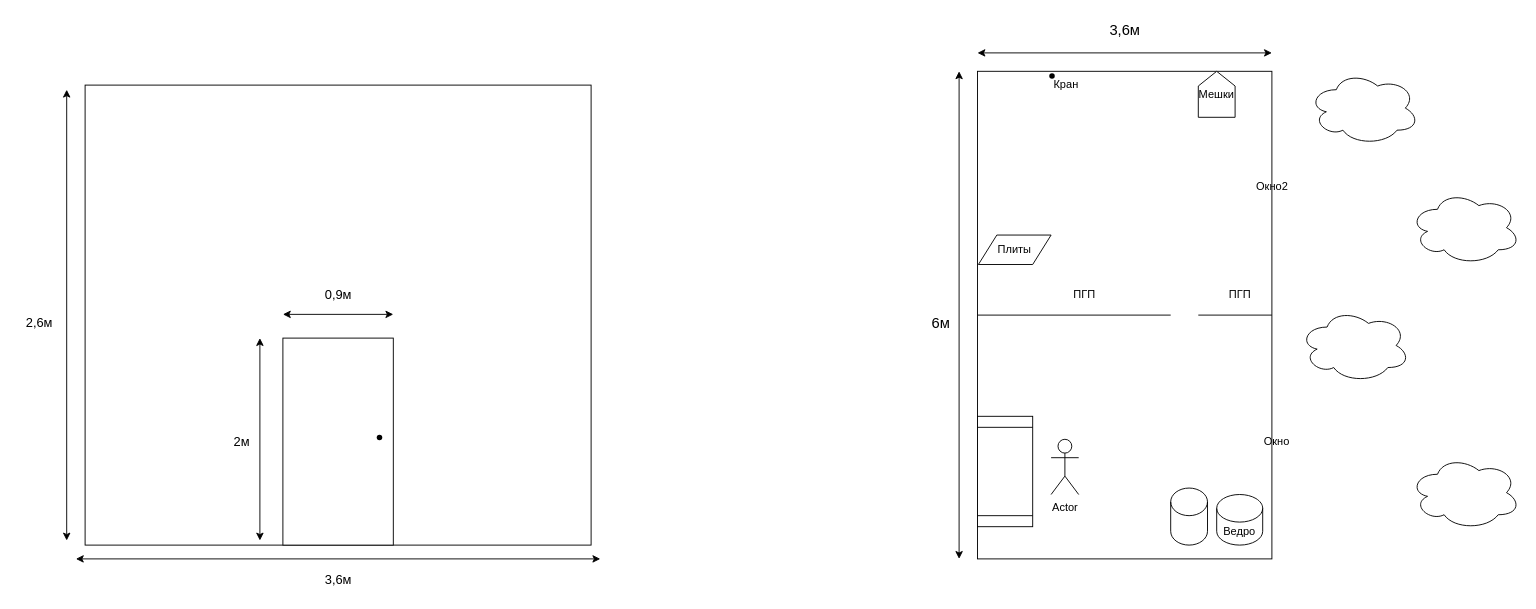
Some shapes in this 1536 by 609 pixel diagram are drawn without their labels. The shapes that lost their labels are listed below. From the top down, each one's centre as x and y in pixels, then its label:
point (1005, 471): Стол
point (1189, 516): Грунт овка
